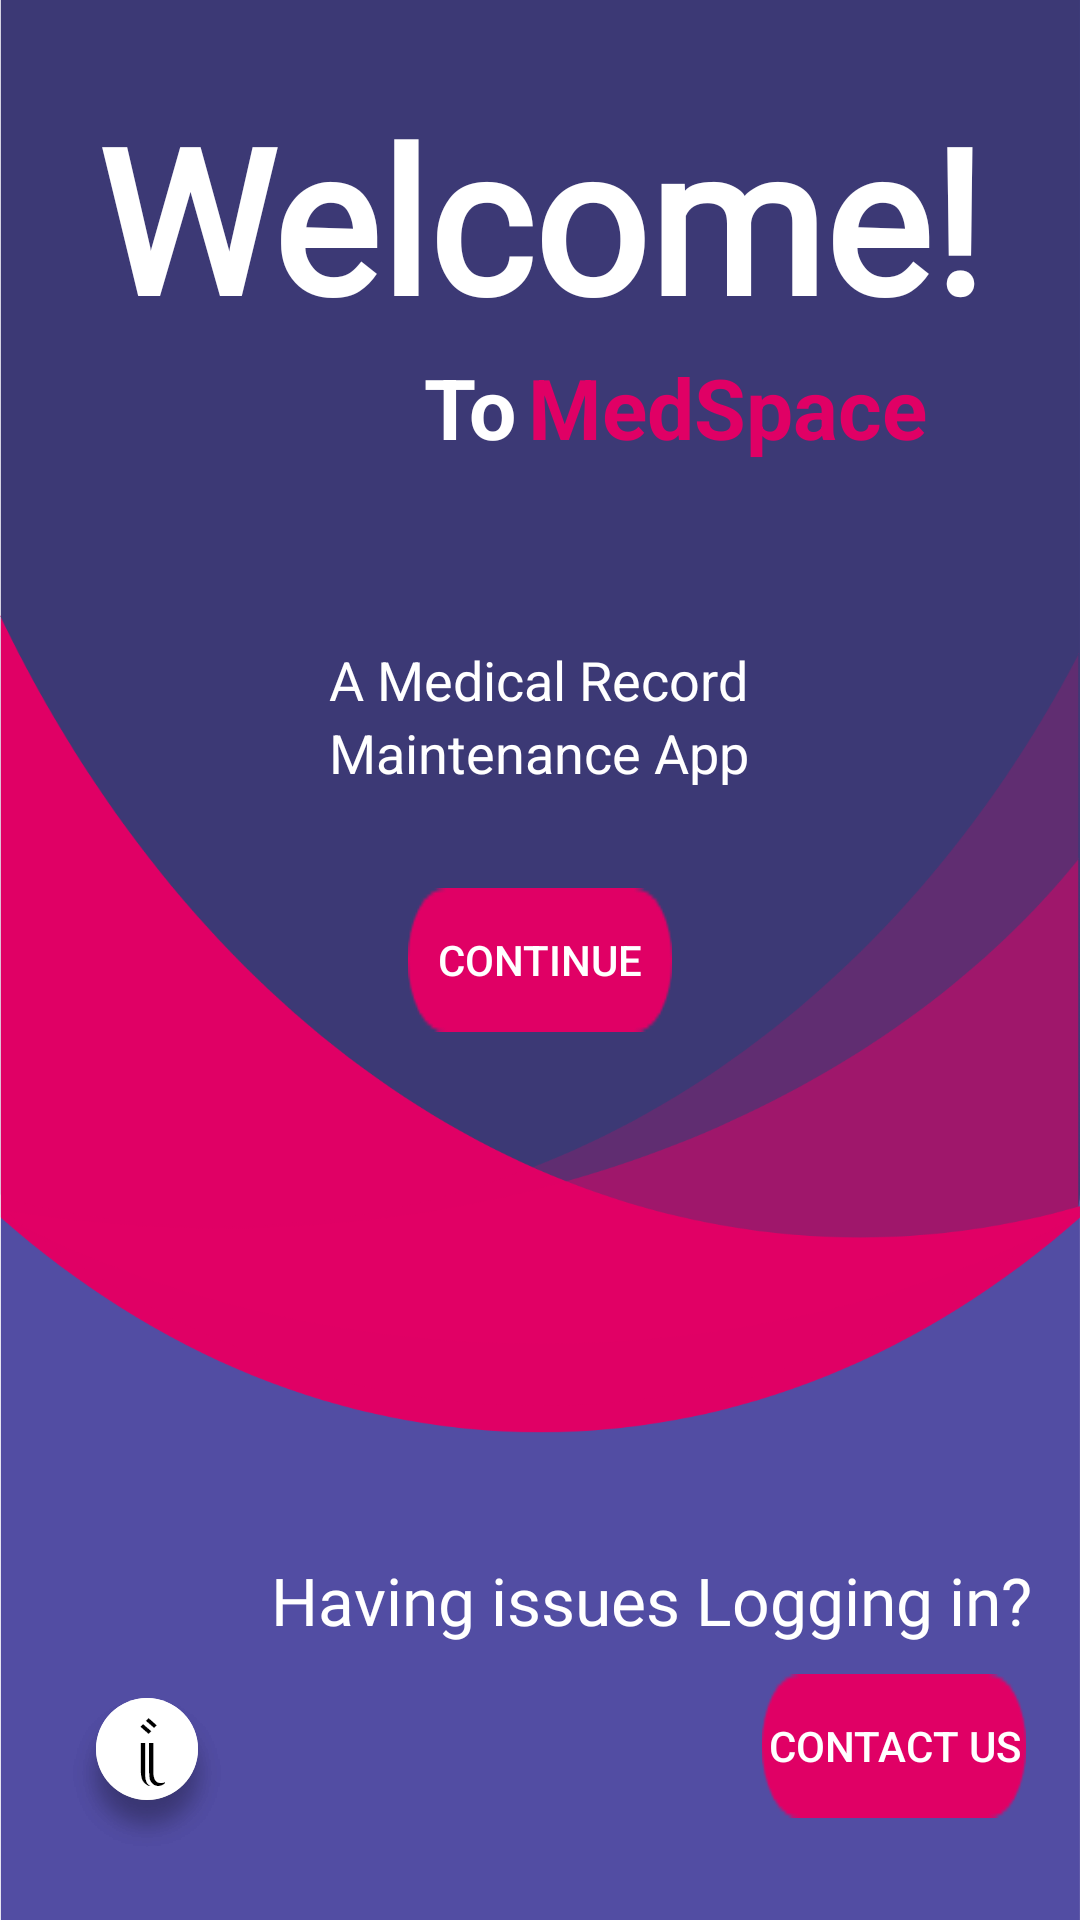

Named icons in this screenshot (1080 x 1920) and their bounding boxes, [x1, y1, x2, y2]:
Credits Button: [96, 1698, 198, 1824]
